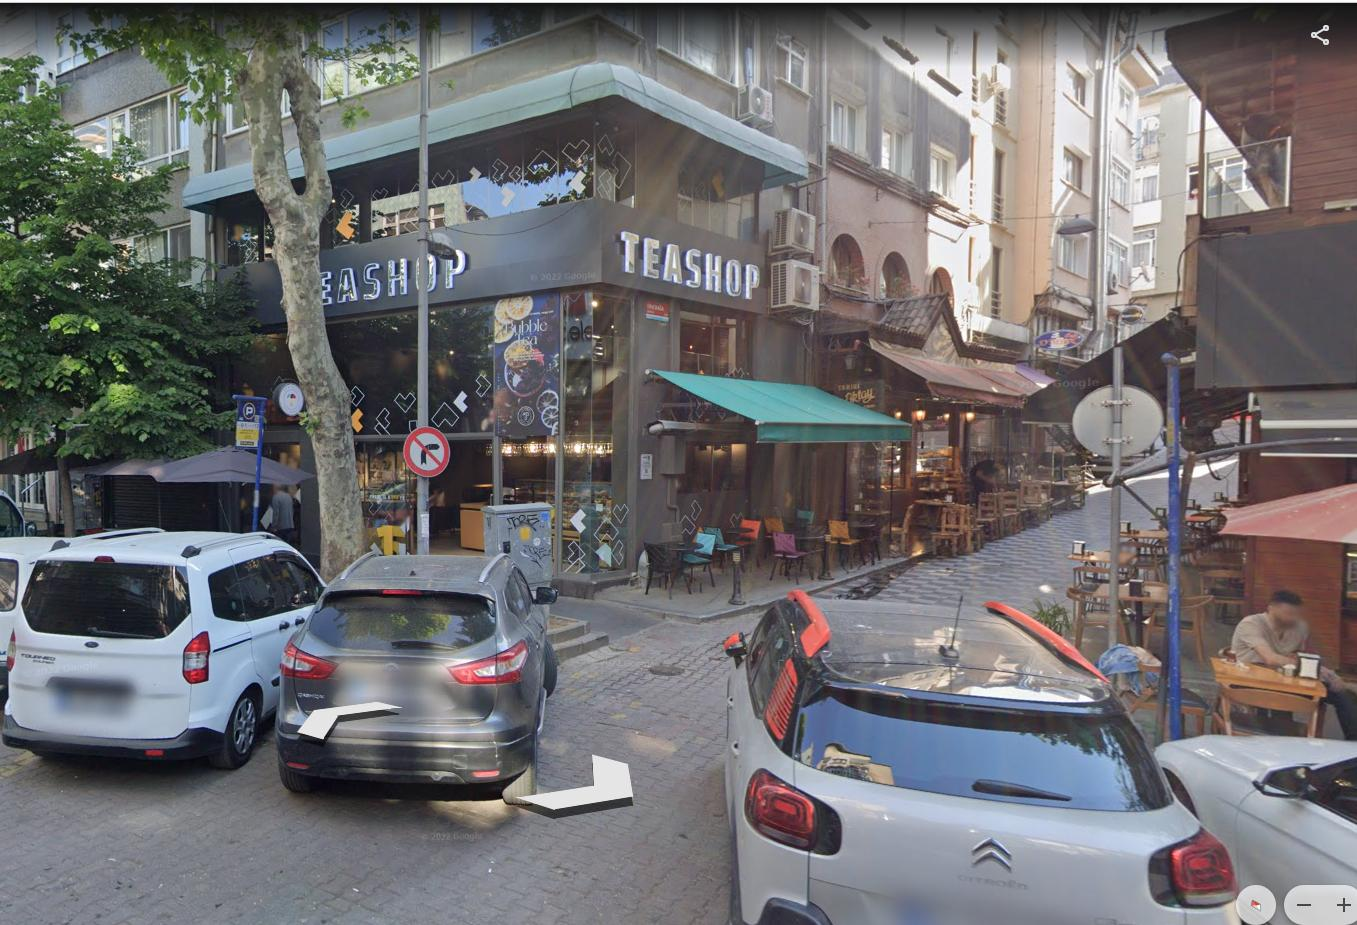rightturnsareforbidden: (402, 428, 453, 476)
